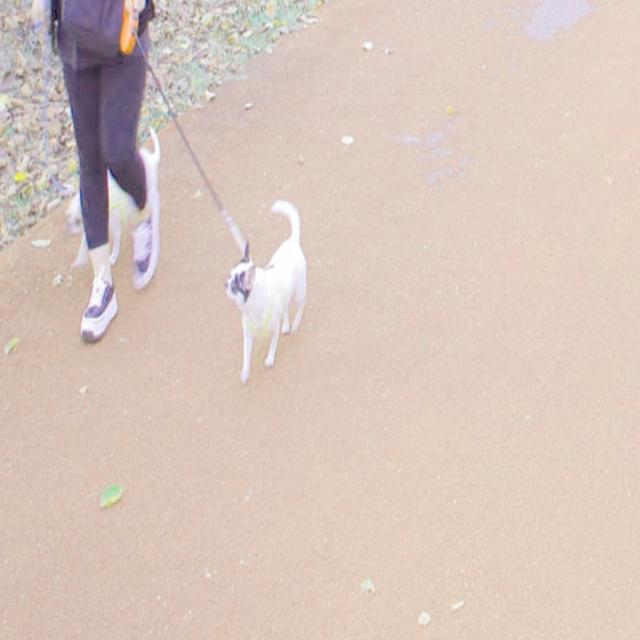Leashed_Dog: (116, 0, 307, 386), (66, 0, 162, 270)
